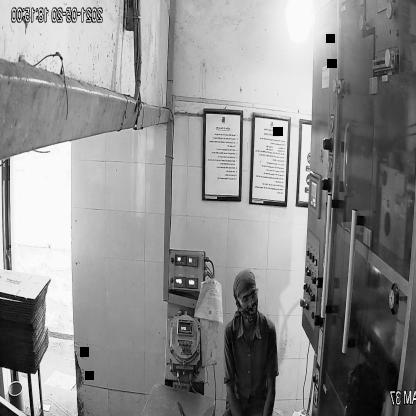goggles: (236, 285, 260, 311)
